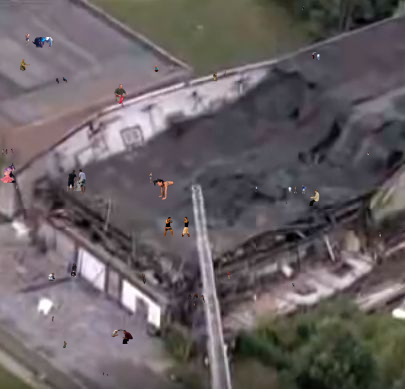Human: (164, 216, 190, 237), (66, 169, 87, 194), (48, 263, 77, 281), (280, 185, 307, 204), (153, 178, 174, 200), (114, 84, 129, 107), (111, 329, 133, 344), (0, 163, 16, 183), (32, 37, 55, 50), (309, 189, 320, 206), (193, 293, 206, 306), (213, 71, 228, 82), (20, 59, 30, 71), (2, 148, 14, 156), (56, 77, 68, 84), (25, 32, 30, 46), (312, 52, 320, 60), (141, 273, 146, 284), (187, 291, 192, 302), (99, 372, 109, 376), (154, 65, 159, 72), (149, 172, 152, 183), (63, 341, 67, 348), (227, 270, 230, 279), (302, 6, 307, 10), (255, 186, 258, 192), (292, 283, 295, 288), (52, 316, 54, 322), (379, 232, 381, 238), (16, 185, 18, 191), (367, 152, 370, 155)
